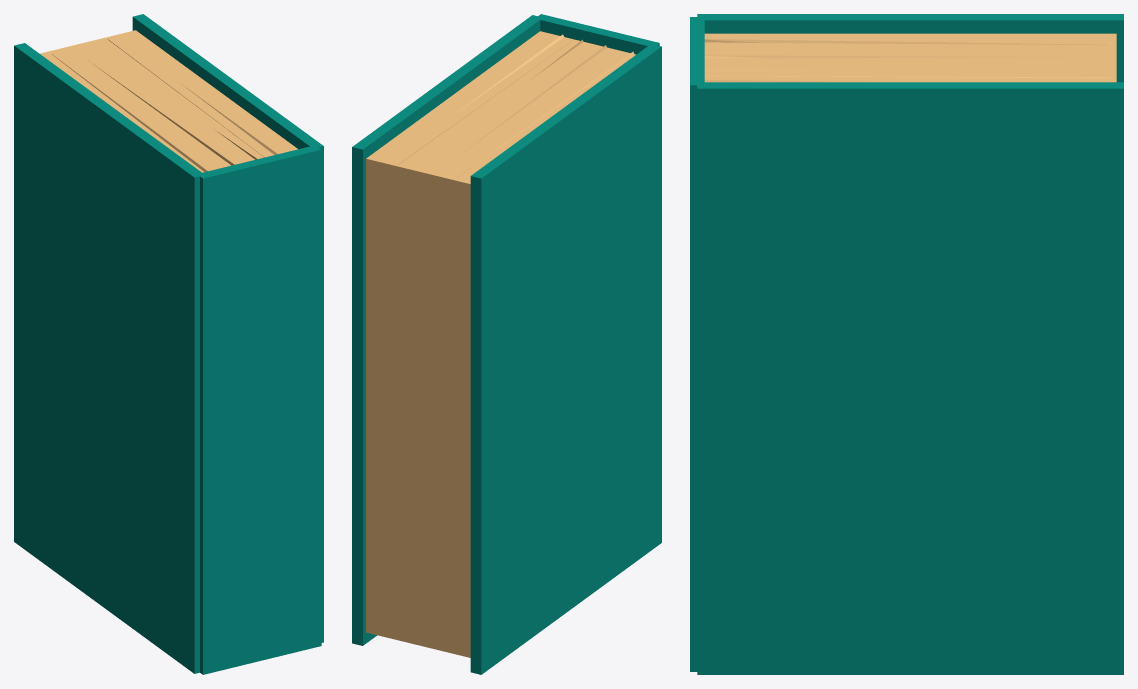
Rendered from cyanBook.fbx.
3 views of the same model, side by side, from view 1: azimuth 30°, elevation 25°; view 2: azimuth 150°, elevation 25°; view 3: azimuth 270°, elevation 25° (orthographic). The views are drawn at different scales.
Parts seen in each view (by area): view 1: mesh_453196978, mesh_764487084, mesh_1732650196, mesh_1485198180; view 2: mesh_453196978, mesh_1732650196, mesh_1485198180, mesh_764487084, group_833298882; view 3: mesh_1485198180, mesh_1732650196, mesh_453196978, mesh_764487084, group_833298882, group_1151146375.
Part boxes in pixels (x1,y1,x2,y2): mesh_453196978: [14, 43, 201, 673]; mesh_764487084: [197, 145, 321, 674]; mesh_1732650196: [40, 30, 297, 172]; mesh_1485198180: [132, 14, 323, 642]; mesh_453196978: [470, 45, 661, 674]; mesh_1732650196: [366, 31, 635, 657]; mesh_1485198180: [352, 15, 540, 645]; mesh_764487084: [535, 14, 659, 54]; group_833298882: [458, 51, 634, 176]; mesh_1485198180: [697, 82, 1123, 674]; mesh_1732650196: [704, 33, 1116, 82]; mesh_453196978: [697, 14, 1123, 82]; mesh_764487084: [690, 17, 704, 671]; group_833298882: [704, 39, 1107, 45]; group_1151146375: [704, 55, 1064, 58].
Bounding box in the file's own units: 12 × 44 × 29.5.
